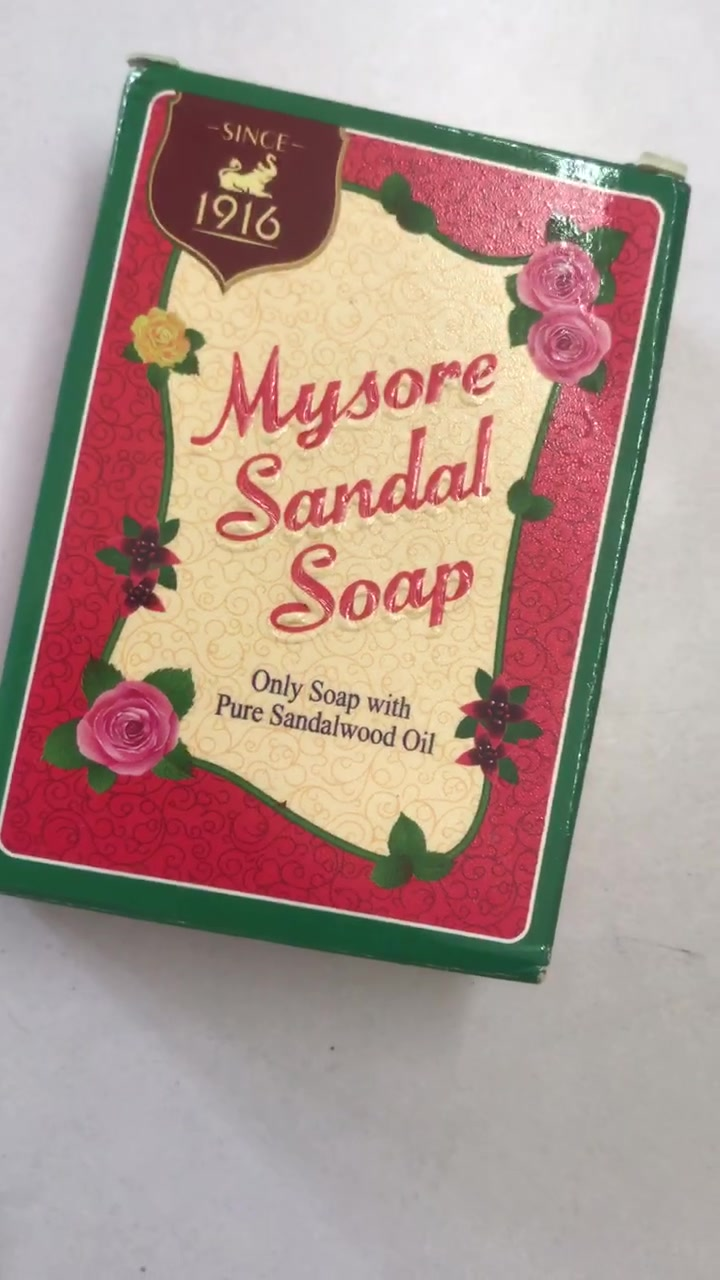mysore sandal soap: (2, 62, 688, 984)
